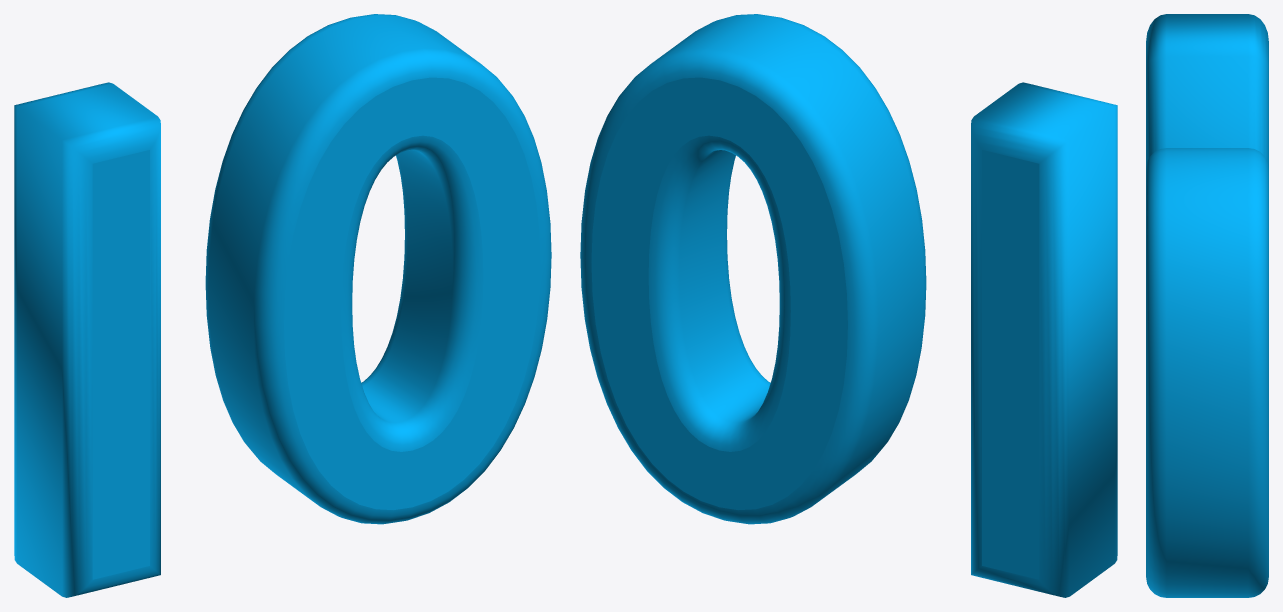
The picture shows the model from 3 angles, left to right: view 1: azimuth 30°, elevation 25°; view 2: azimuth 150°, elevation 25°; view 3: azimuth 270°, elevation 25°; orthographic projection. The views are drawn at different scales.
Parts seen in each view (by area): view 1: Text; view 2: Text; view 3: Text.
Part boxes in pixels (x1,y1,x2,y2): Text: [14, 14, 551, 597]; Text: [580, 14, 1117, 597]; Text: [1146, 14, 1268, 597].
Size of the model in its own units: 2.5 by 2.3 by 0.6.
